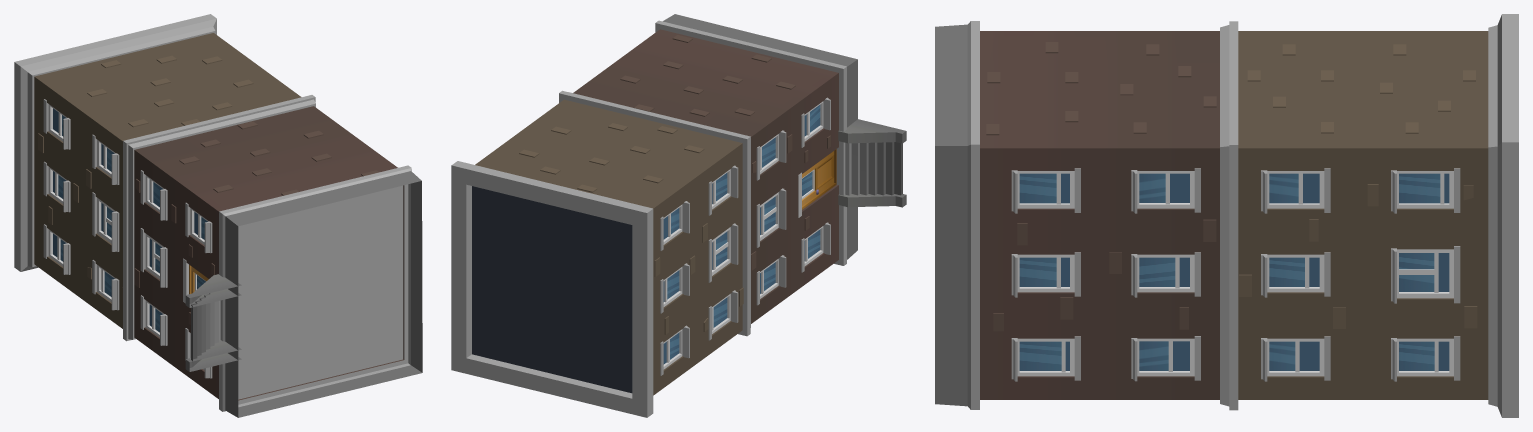
Rendered from Building_2_8_G.fbx.
3 views of the same model, side by side, from view 1: azimuth 30°, elevation 25°; view 2: azimuth 150°, elevation 25°; view 3: azimuth 270°, elevation 25° (orthographic). The views are drawn at different scales.
Visible parts, largest first — view 1: Building_2_8_G; view 2: Building_2_8_G; view 3: Building_2_8_G.
Boxes of the visible parts, <box> form: Building_2_8_G: <box>14,14,422,417</box>; Building_2_8_G: <box>451,14,906,417</box>; Building_2_8_G: <box>935,14,1518,417</box>.
Bounding box in the file's own units: 754 × 620 × 1191.
